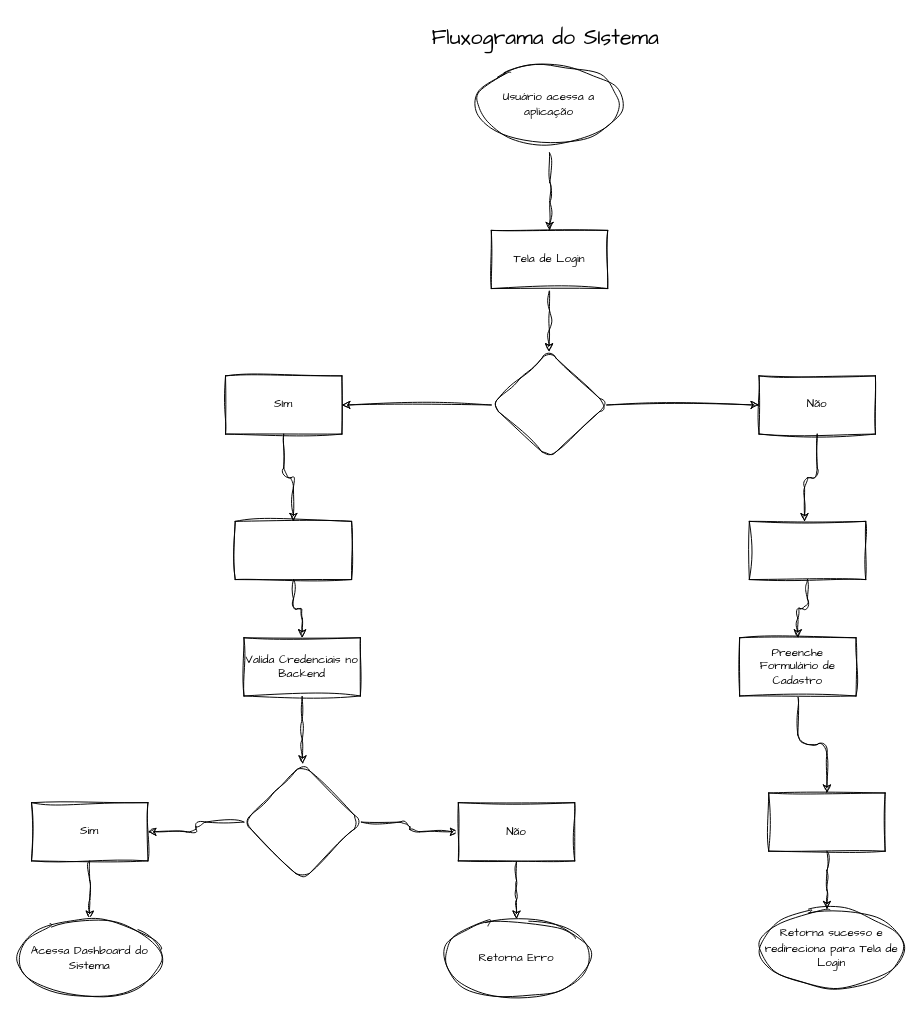
This 922x1014 diagram has some shape labels left out. Here are the shapes that lost their labels. From the top down, the centre of each, then its label:
pixel 548 404: Usuário tem Cadastro
pixel 293 550: Faz Login
pixel 807 550: Redireciona para Tela de Cadastro
pixel 302 821: Usuario Validado
pixel 826 821: Envia dados de Cadastro para o Backend
